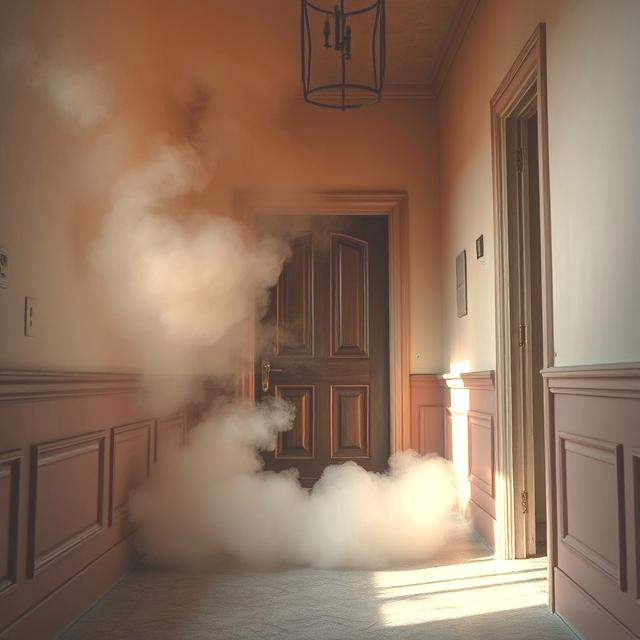smoke: (7, 79, 499, 575)
